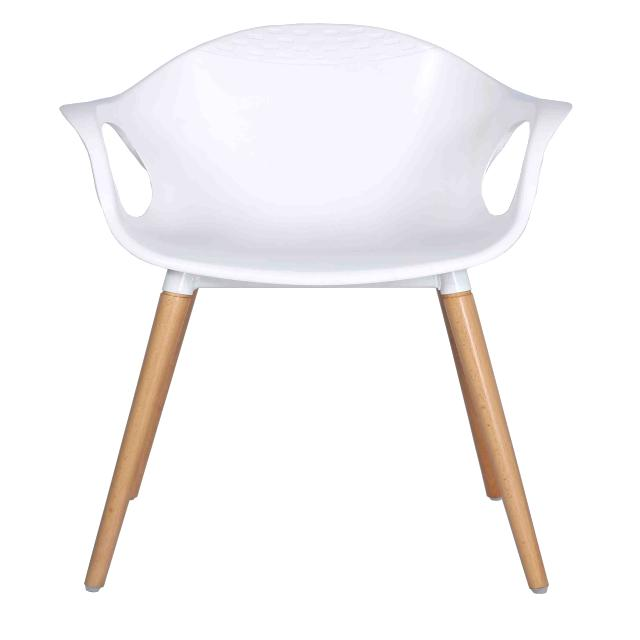Chair: (57, 18, 585, 600)
